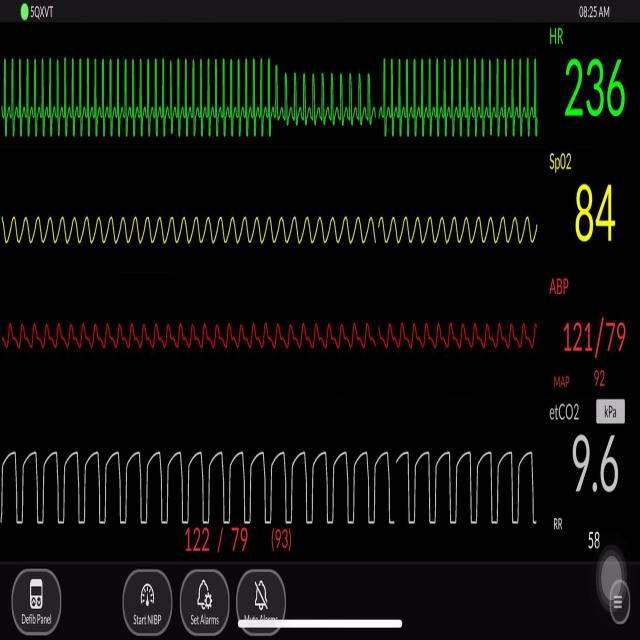danger: (10, 36, 275, 151), (378, 32, 544, 155), (278, 54, 377, 141)
